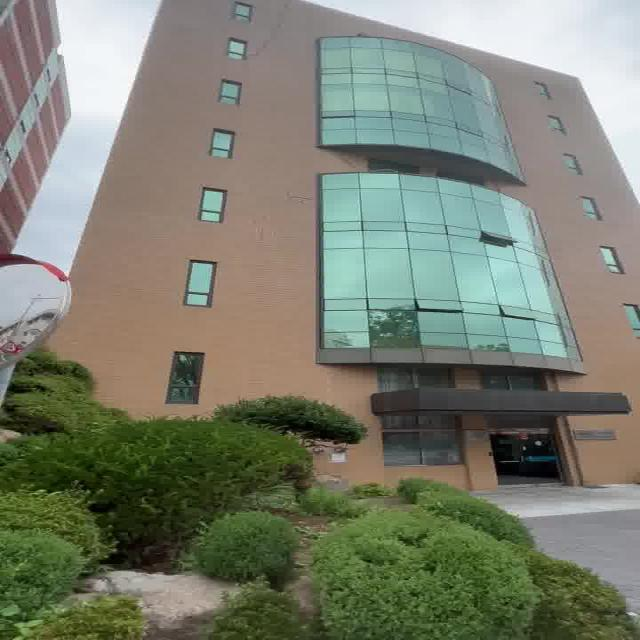building: (98, 15, 640, 379)
